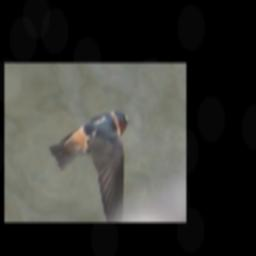Swallow: (48, 106, 131, 222)
